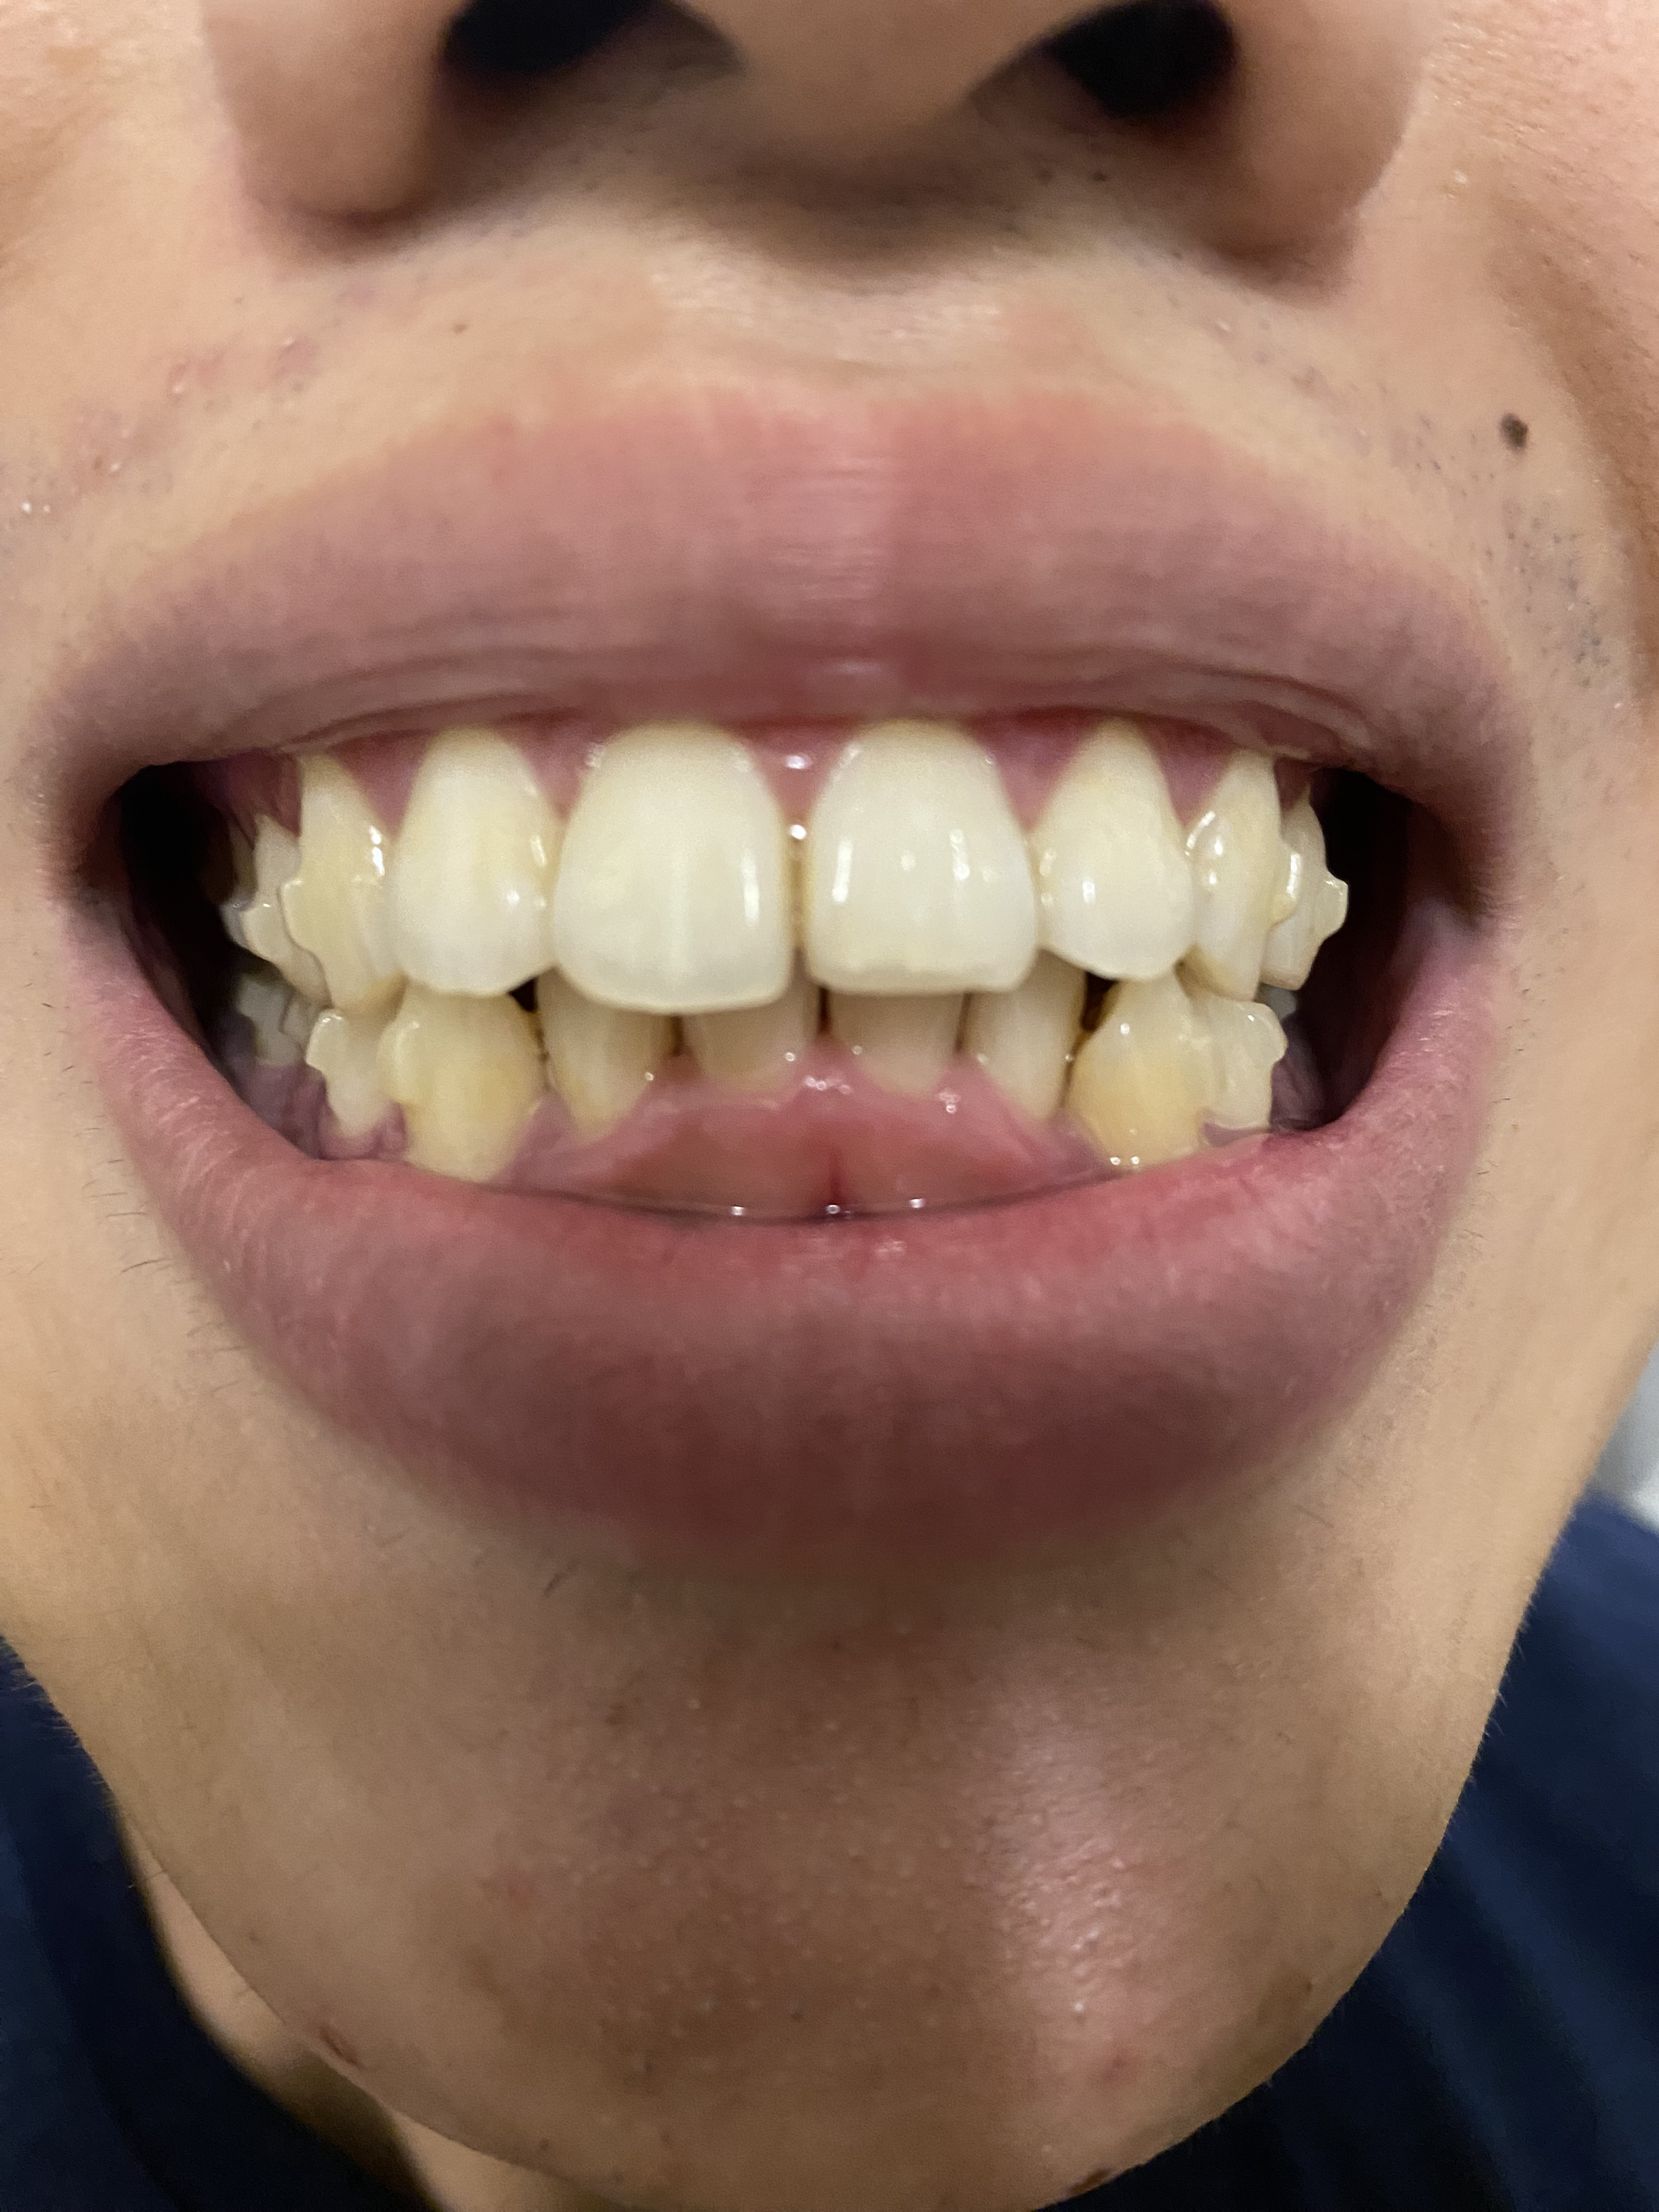teeth: (561, 726, 791, 1005), (802, 716, 1037, 988), (394, 730, 561, 991), (1042, 716, 1201, 975), (390, 988, 542, 1172), (293, 752, 394, 998), (1068, 979, 1201, 1163), (533, 974, 669, 1141), (1204, 742, 1295, 991), (979, 948, 1080, 1115), (692, 982, 831, 1101), (842, 993, 964, 1094)
